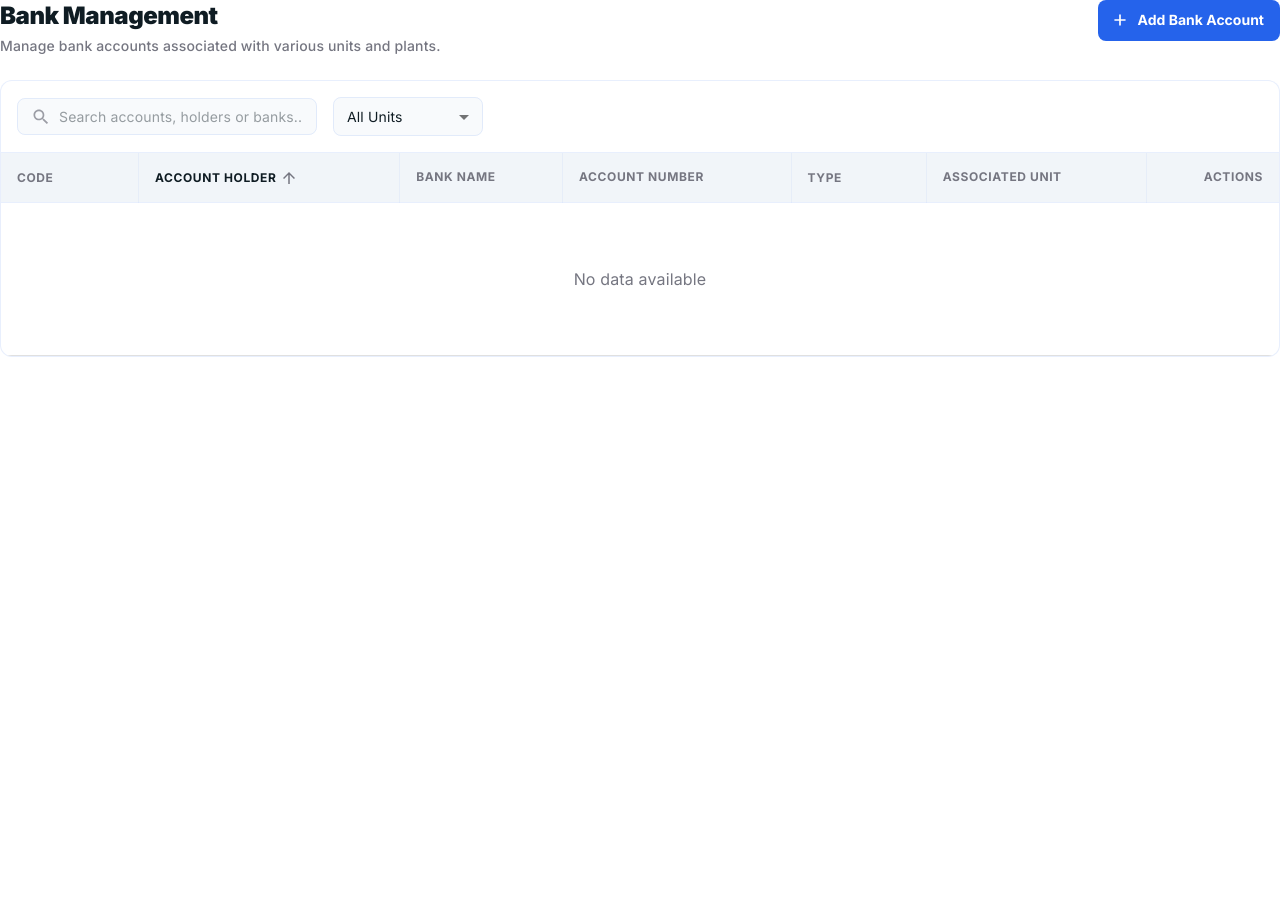
Test case: BanksPage › opens modal when Add Bank Account button is clicked
The width and height of the screenshot is (1280, 900).
Click the button "Add Bank Account".
click(1189, 20)  # box [1098, 0, 1279, 40]
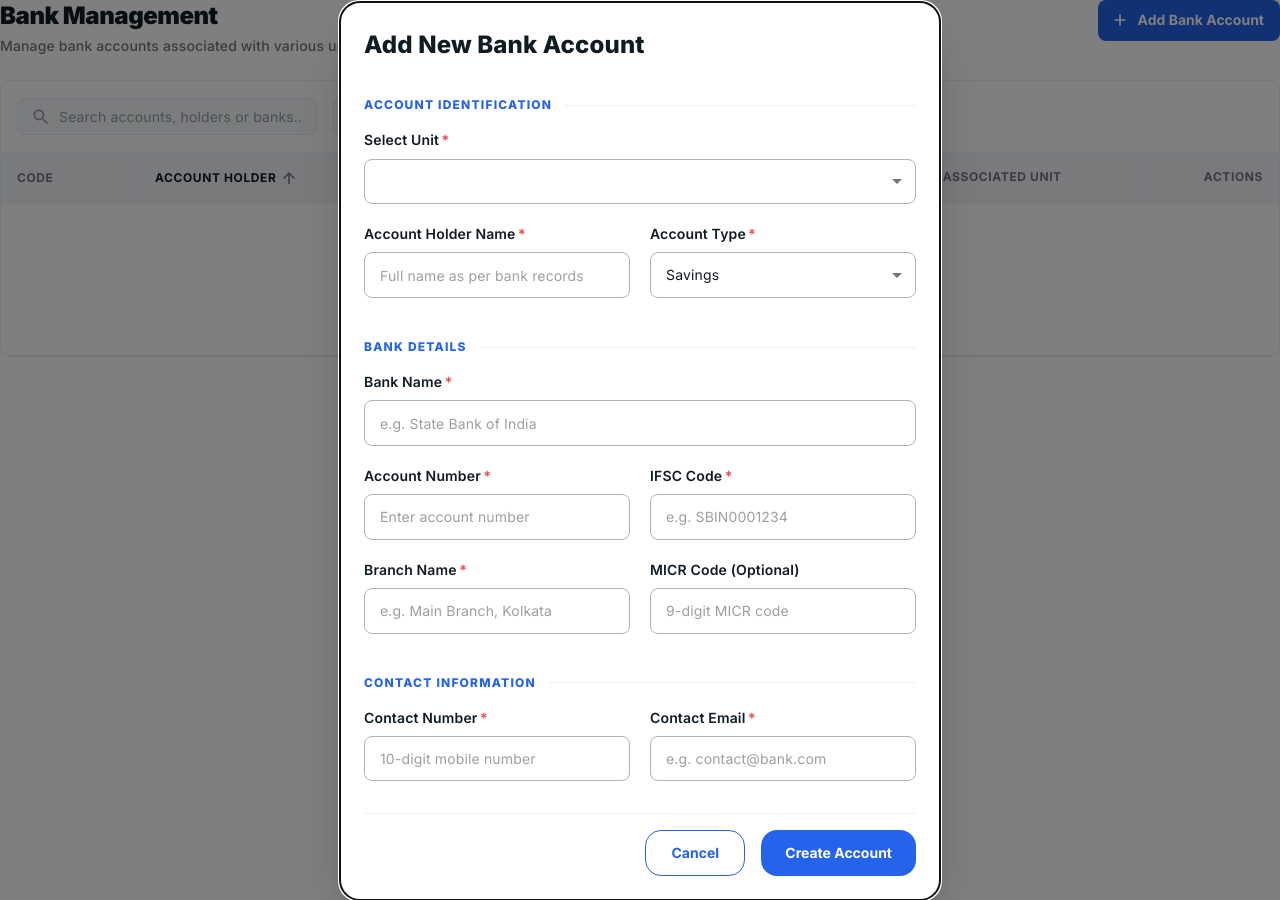
Expected: the heading "Add New Bank Account" is shown, [364, 30, 645, 59]
